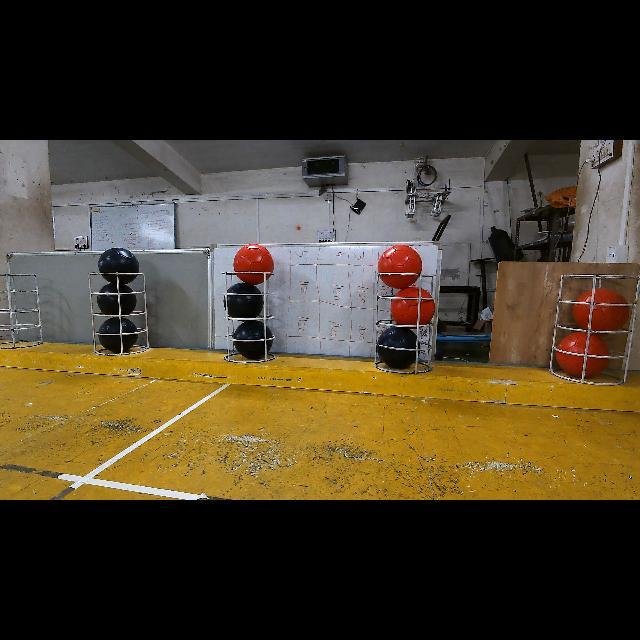P: (378, 326, 420, 369), (234, 320, 274, 359), (98, 248, 140, 285), (224, 282, 264, 319), (98, 318, 138, 354), (98, 284, 138, 315)
R: (555, 331, 610, 378), (571, 290, 628, 331), (378, 245, 422, 289), (390, 285, 435, 325), (234, 244, 274, 285)
S: (554, 272, 640, 383), (371, 270, 442, 376), (217, 266, 283, 372), (82, 264, 152, 360), (0, 270, 44, 353)
